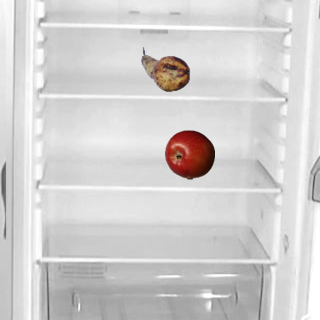Apple Braeburn: (164, 129, 214, 179)
Pear Abate: (140, 44, 190, 94)
